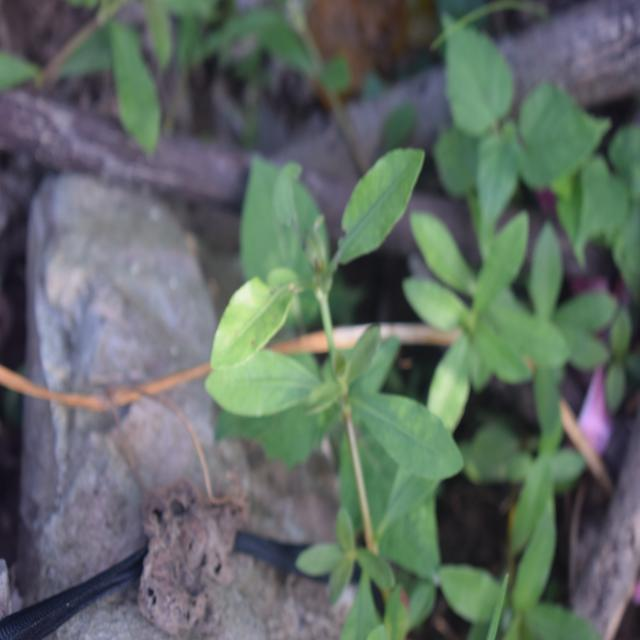Alligatorweed: (220, 132, 435, 514)
